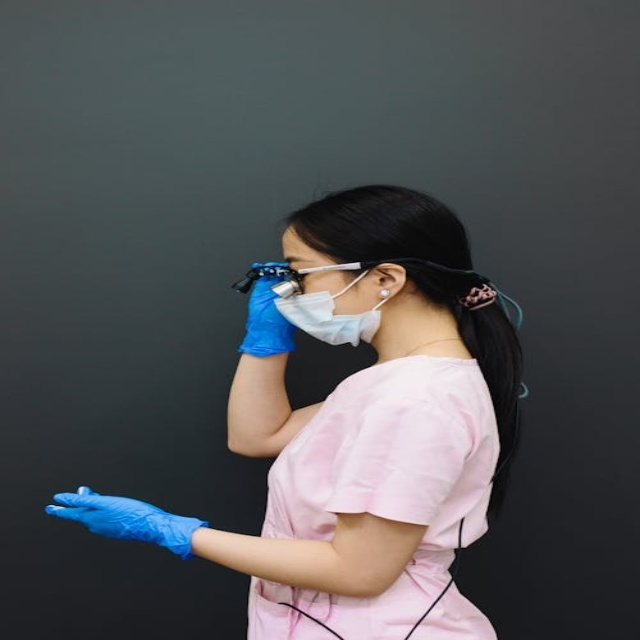Gafas: (242, 262, 362, 298)
Guantes: (45, 486, 208, 560), (238, 262, 298, 357)
Mascara: (275, 268, 390, 348)
